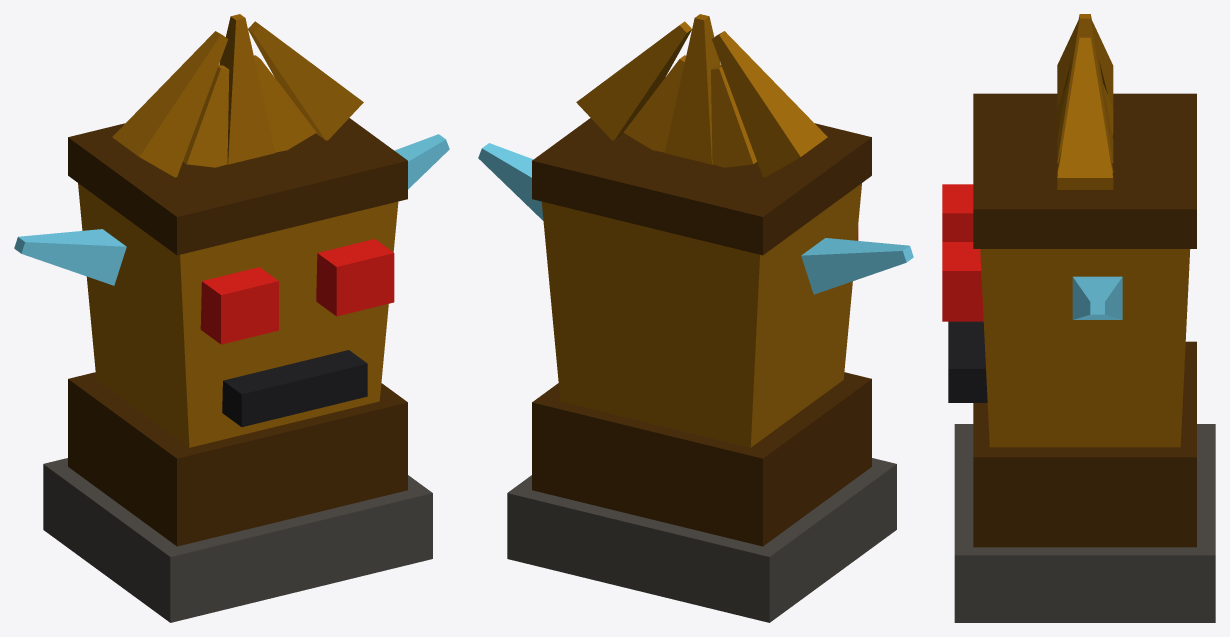
Rendered from MegaDios_low.fbx.
3 views of the same model, side by side, from view 1: azimuth 30°, elevation 25°; view 2: azimuth 150°, elevation 25°; view 3: azimuth 270°, elevation 25° (orthographic). The views are drawn at different scales.
Parts seen in each view (by area): view 1: MegaDios_low; view 2: MegaDios_low; view 3: MegaDios_low.
Part boxes in pixels (<box>): MegaDios_low: <box>14,14,449,622</box>; MegaDios_low: <box>478,14,913,622</box>; MegaDios_low: <box>942,14,1215,622</box>.
Size of the model in its own units: 81.63 by 96 by 44.
